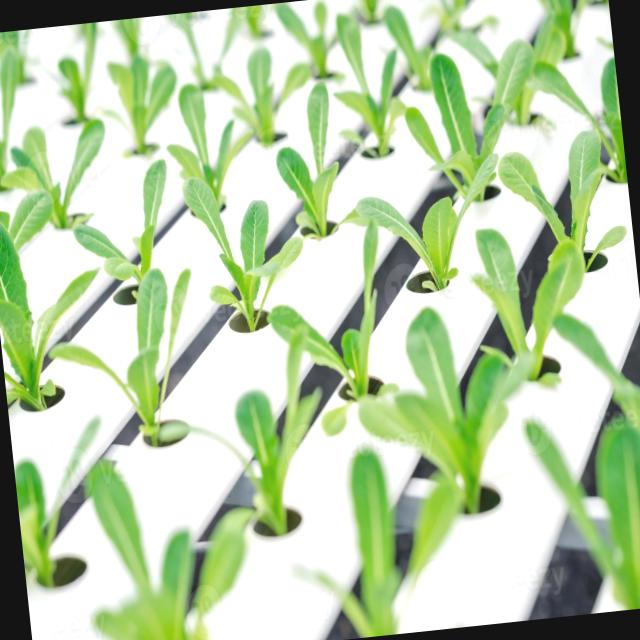verde: (269, 221, 391, 434), (50, 268, 190, 445), (355, 154, 497, 292), (182, 176, 302, 330), (73, 159, 166, 303), (276, 82, 338, 238)
